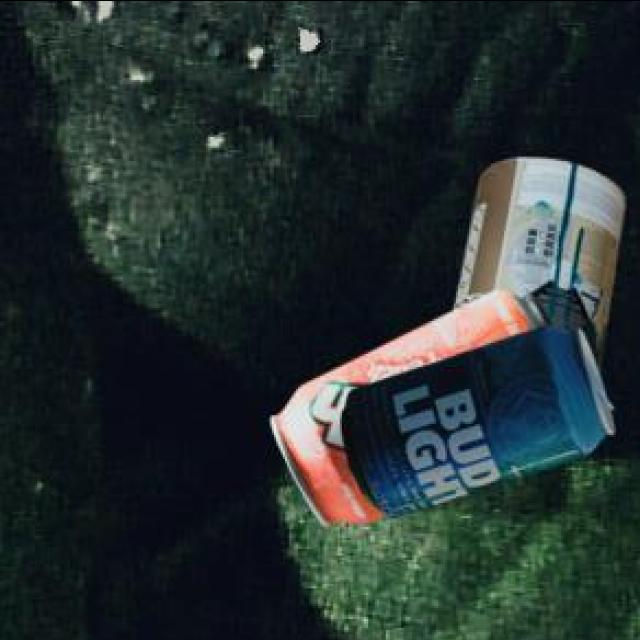logam: (268, 293, 547, 529), (339, 328, 610, 521), (450, 161, 621, 376)
